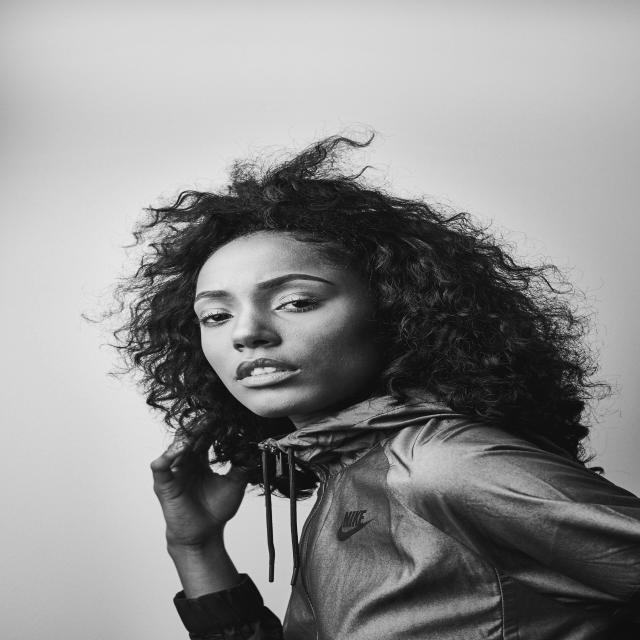human: (85, 144, 640, 640)
